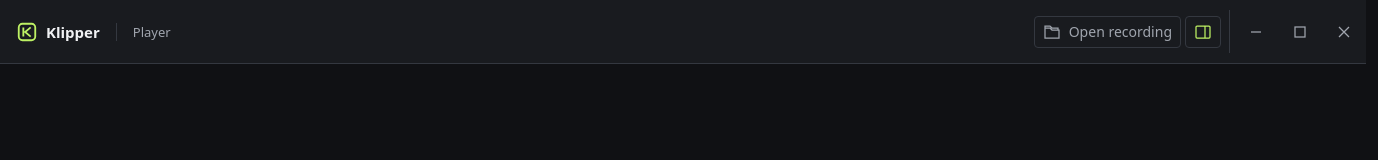
Test: reports failed commands while keeping essential controls available
Click the button named "Close window": {"x": 1344, "y": 32} [1322,10,1366,53]
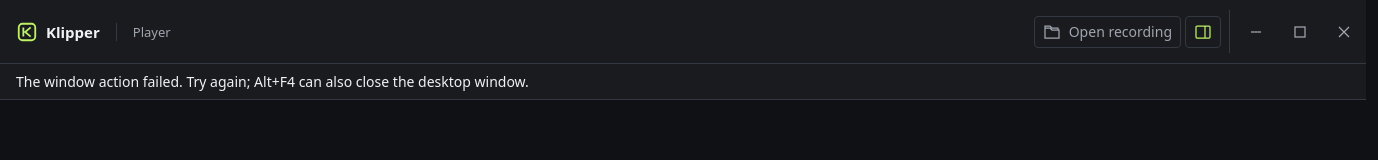
Check: the message shows "Alt+F4", box [16,72,529,91]
